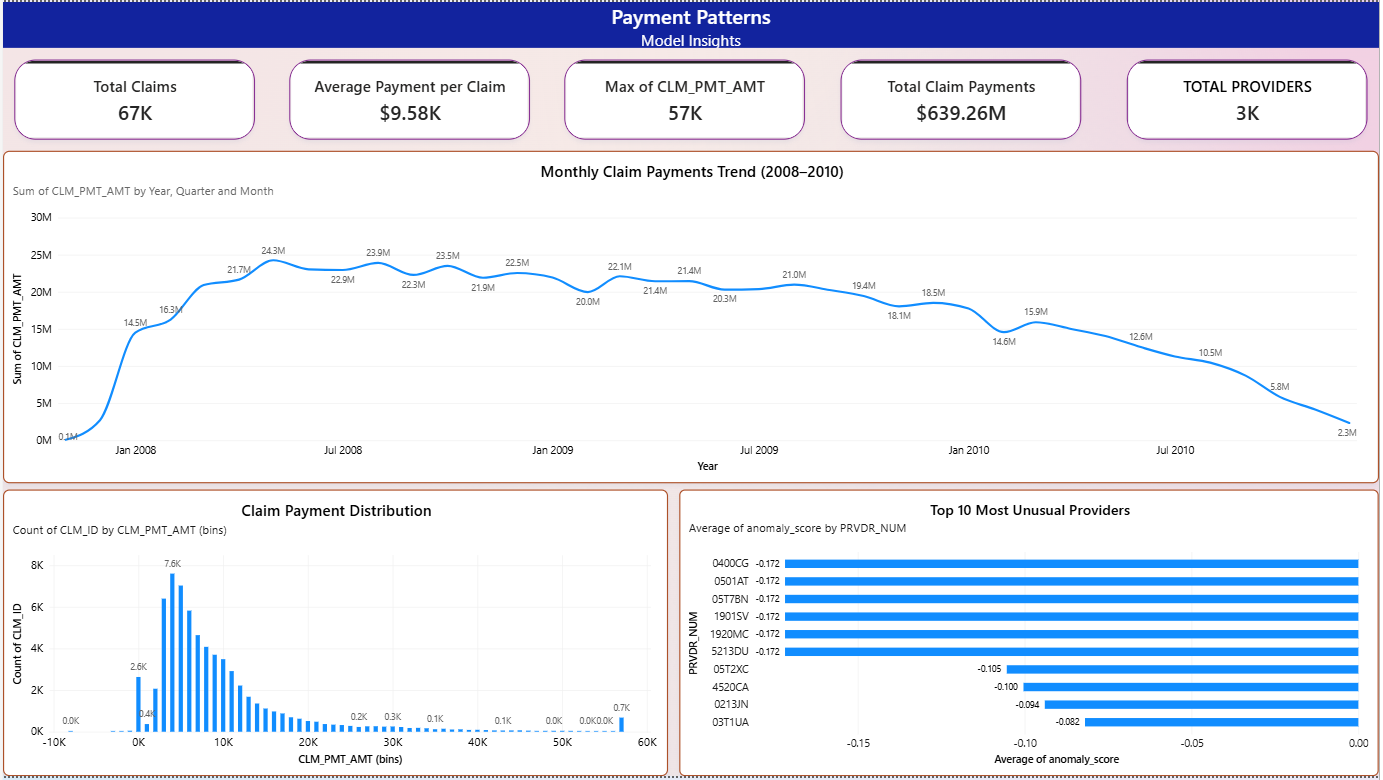

The page's visual inventory and layout, read from the dashboard file:
{"tool":"powerbi","page":{"name":"Payment Patterns & Model Insights","canvas":[1920,1080],"ordinal":2},"visuals":[{"type":"clusteredColumnChart","title":"Claim Payment Distribution","fields":{"Category":["Claims.CLM_PMT_AMT (bins)"],"Y":["CountNonNull(Claims.CLM_ID)"]},"box":[0,96,944,464],"z":0},{"type":"lineChart","title":"Monthly Claim Payments by Year","fields":{"Category":["Claims.ClaimDate.Variation.Date Hierarchy.Year","Claims.ClaimDate.Variation.Date Hierarchy.Quarter","Claims.ClaimDate.Variation.Date Hierarchy.Month"],"Y":["Sum(Claims.CLM_PMT_AMT)"]},"box":[960,96,960,464],"z":1000},{"type":"textbox","title":"Payment Patterns","box":[0,0,1920,80],"z":3000},{"type":"clusteredBarChart","title":"Top 10 Most Unusual Providers","fields":{"Category":["ProviderRisk.PRVDR_NUM"],"Y":["Avg(ProviderRisk.anomaly_score)"]},"box":[0,568,1920,512],"z":3001}]}

Visuals, with their boxes in screenshot pixels (x1, y1, x2, y2), scaled from the page's 1920x1080 canvas onto the 1383x780 screenshot:
"Claim Payment Distribution" clusteredColumnChart: l=0, t=69, r=680, b=404
"Monthly Claim Payments by Year" lineChart: l=692, t=69, r=1382, b=404
"Payment Patterns" textbox: l=0, t=0, r=1382, b=58
"Top 10 Most Unusual Providers" clusteredBarChart: l=0, t=410, r=1382, b=779
